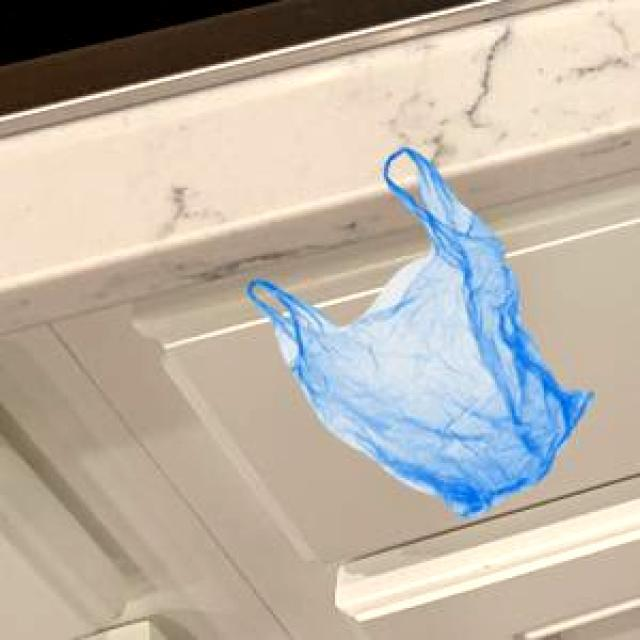Plastic_Bag: (246, 146, 590, 515)
